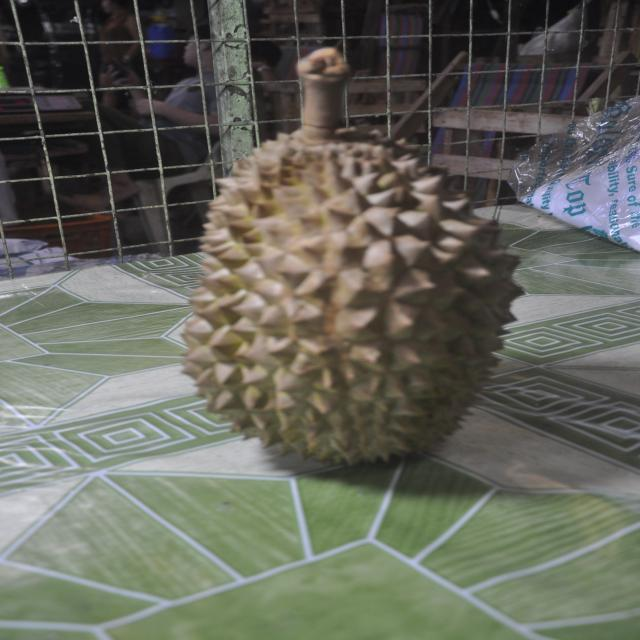mature: (135, 41, 549, 496)
